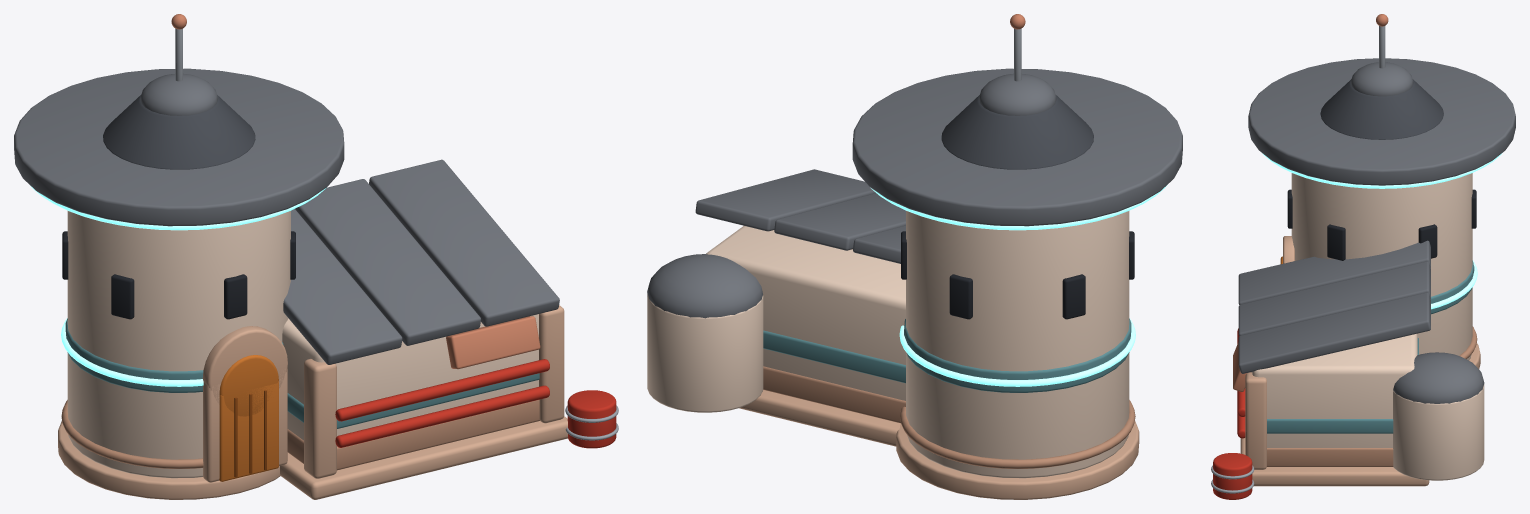
Rendered from claude.glb.
3 renders of one model, left to right at view 1: azimuth 30°, elevation 25°; view 2: azimuth 150°, elevation 25°; view 3: azimuth 270°, elevation 25°, orthographic. The views are drawn at different scales.
Parts seen in each view (by area): view 1: Cylinder.001, Cylinder.003, Cube.016, Cube.015, Cube.007, Cube.014, Cone, Cube.006, Cube.008, Cylinder, Cube.019, Cube.010 (+16 smaller); view 2: Cylinder.001, Cylinder.003, Cube.007, Cylinder.009, Cone, Cylinder, Cube.016, Sphere.002, Cube.015, Cylinder.002, Cube.006, Cube.008 (+8 smaller); view 3: Cylinder.003, Cylinder.001, Cube.007, Cube.016, Cylinder.009, Cube.015, Cone, Cube.014, Sphere.002, Cube.006, Cube.008, Cube.012 (+9 smaller).
Part boxes in pixels (x1,y1,x2,y2): Cylinder.001: (67, 211, 290, 478); Cylinder.003: (14, 68, 344, 226); Cube.016: (369, 159, 559, 326); Cube.015: (295, 179, 480, 345); Cube.007: (282, 314, 538, 446); Cube.014: (283, 209, 402, 364); Cone: (103, 94, 255, 169); Cube.006: (280, 416, 567, 499); Cube.008: (287, 400, 539, 470); Cylinder: (58, 421, 280, 499); Cube.019: (219, 381, 278, 481); Cube.010: (304, 358, 336, 478); Cylinder.001: (906, 211, 1129, 478); Cylinder.003: (852, 68, 1182, 226); Cube.007: (706, 226, 905, 400); Cylinder.009: (647, 294, 763, 412); Cone: (941, 95, 1093, 169); Cylinder: (896, 421, 1139, 499); Cube.016: (695, 169, 875, 231); Sphere.002: (647, 254, 762, 318); Cube.015: (774, 193, 905, 250); Cylinder.002: (904, 318, 1131, 392); Cube.006: (739, 390, 900, 446); Cube.008: (763, 366, 905, 423); Cylinder.003: (1248, 58, 1515, 185); Cylinder.001: (1291, 173, 1472, 360); Cube.007: (1252, 333, 1417, 447); Cube.016: (1238, 292, 1430, 373); Cylinder.009: (1393, 384, 1484, 480); Cube.015: (1238, 261, 1430, 335); Cone: (1320, 79, 1443, 139); Cube.014: (1238, 240, 1430, 304); Sphere.002: (1393, 352, 1484, 403); Cube.006: (1240, 438, 1429, 486); Cube.008: (1267, 448, 1393, 466); Cube.012: (1245, 372, 1266, 469).
Bounding box in the file's own units: 11.55 × 9.86 × 7.75.
